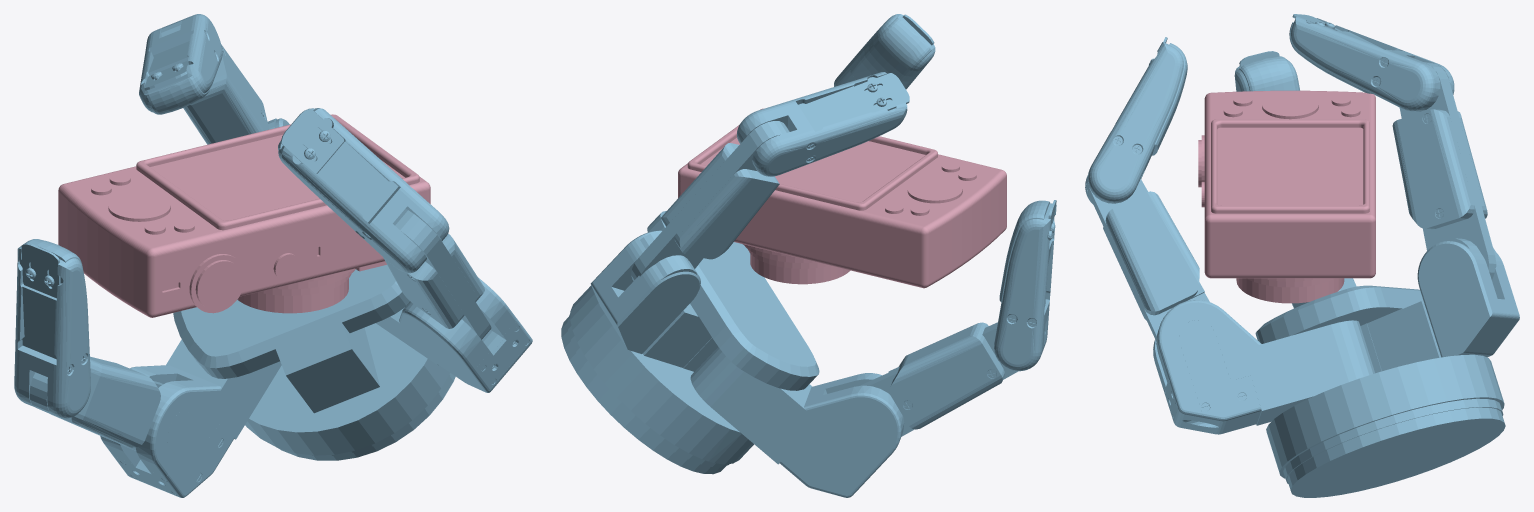
3 views of the same model, side by side, from view 1: azimuth 30°, elevation 25°; view 2: azimuth 150°, elevation 25°; view 3: azimuth 270°, elevation 25° (orthographic). The views are drawn at different scales.
Visible parts, largest first — view 1: world, camera.stl; view 2: world, camera.stl; view 3: world, camera.stl.
Part boxes in pixels (left/top/right/bottom): world: left=14, top=14, right=532, bottom=497; camera.stl: left=58, top=114, right=430, bottom=317; world: left=561, top=14, right=1056, bottom=497; camera.stl: left=678, top=108, right=1006, bottom=288; world: left=1085, top=14, right=1519, bottom=497; camera.stl: left=1198, top=90, right=1375, bottom=303.
Bounding box in the file's own units: 0.1922 × 0.1711 × 0.1641.
